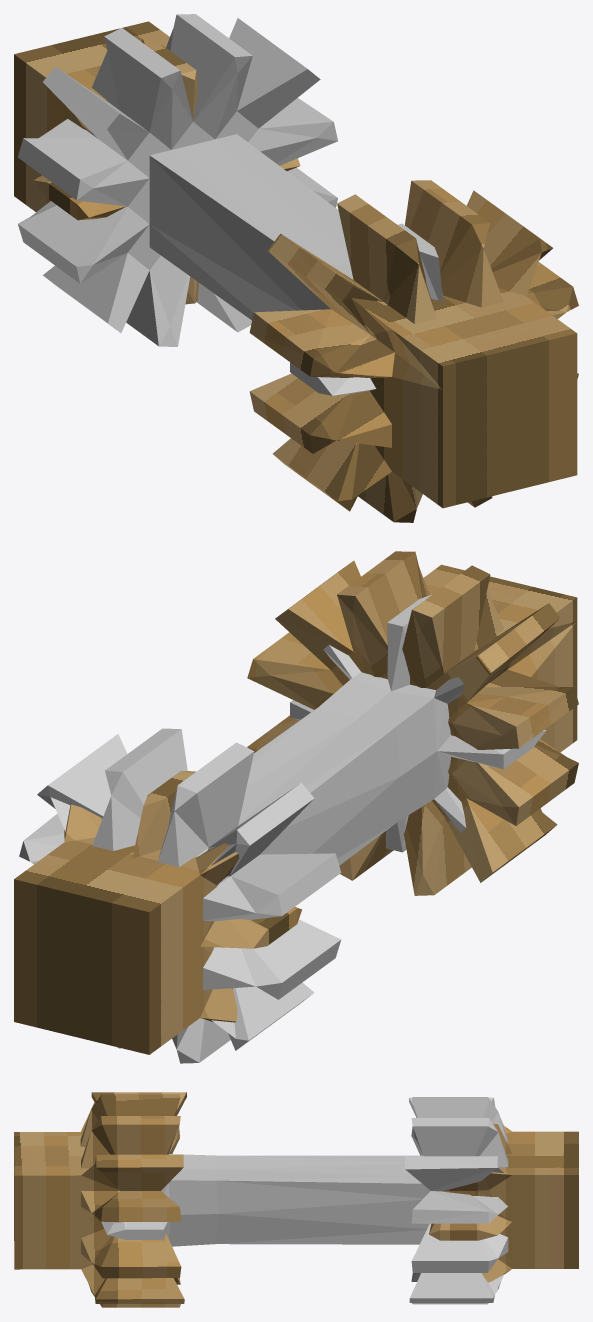
Rendered from gearbox.obj.
The picture shows the model from 3 angles, top to bottom: view 1: azimuth 30°, elevation 25°; view 2: azimuth 150°, elevation 25°; view 3: azimuth 270°, elevation 25°; orthographic projection. The views are drawn at different scales.
Visible parts, largest first — view 1: big_output, connection, small_output; view 2: connection, big_output, small_output; view 3: connection, big_output, small_output.
Part boxes in pixels (<box>): big_output: <box>249,180,578,522</box>; connection: <box>18,14,443,395</box>; small_output: <box>14,21,300,304</box>; connection: <box>19,594,546,1063</box>; big_output: <box>247,551,578,895</box>; small_output: <box>14,771,301,1054</box>; connection: <box>101,1097,508,1304</box>; big_output: <box>14,1092,186,1307</box>; small_output: <box>429,1123,578,1282</box>.
Size of the model in its own units: 0.3662 by 0.368 by 1.
